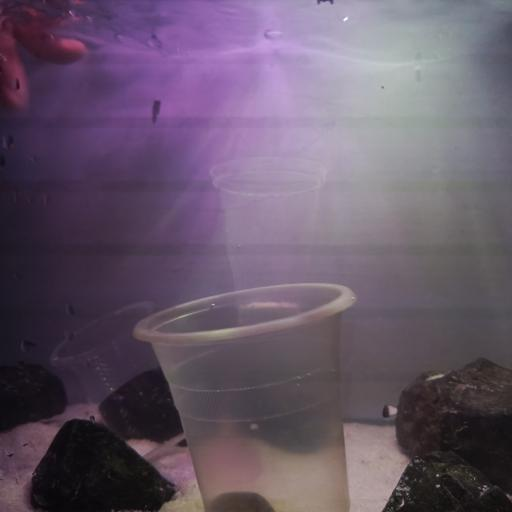plastic_cup: (131, 280, 359, 512), (49, 300, 185, 462), (209, 155, 327, 323)
